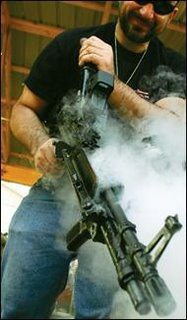rifle: (70, 155, 174, 312)
rifle in hand: (34, 59, 170, 314)
